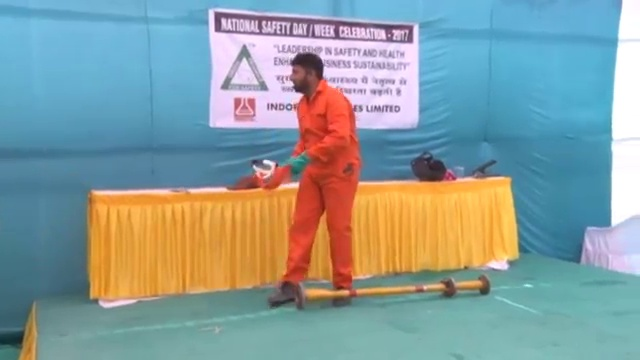helmet_off: (289, 54, 324, 95)
person: (260, 54, 360, 310)
